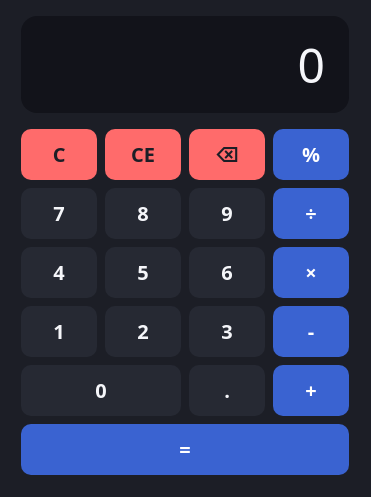
Scenario: App — basic calculation (User Story 1) › computes 9 - 15 = -6
The image size is (371, 497).
What coordinates should you click on to do the following:
click the button "9"
I would click on:
 (227, 214)
Its box is top-left (189, 188), bottom-right (265, 239).
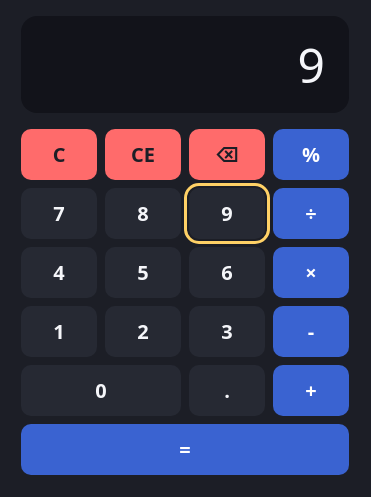
What coordinates should you click on to do the following:
click the button named "Subtract"
I would click on:
 (311, 332)
Its box is top-left (273, 306), bottom-right (349, 357).
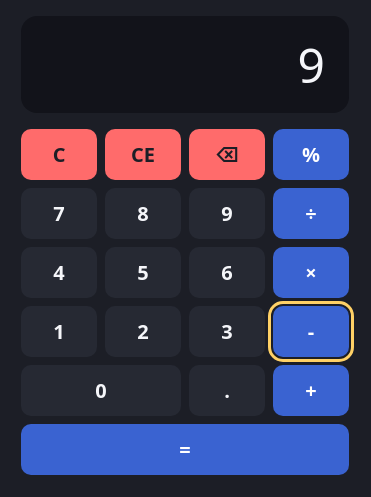
What coordinates should you click on to do the following:
click the button "1"
I would click on:
 (59, 332)
Its box is top-left (21, 306), bottom-right (97, 357).
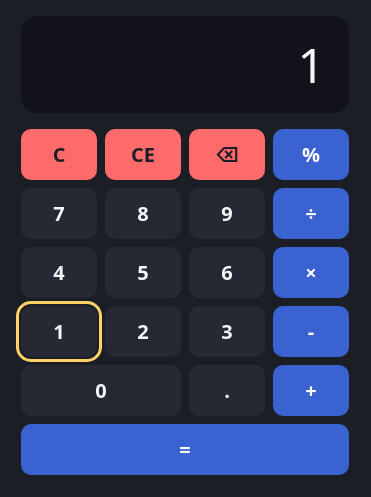
What coordinates should you click on to do the following:
click the button "5"
I would click on:
 (143, 272)
Its box is top-left (105, 247), bottom-right (181, 298).
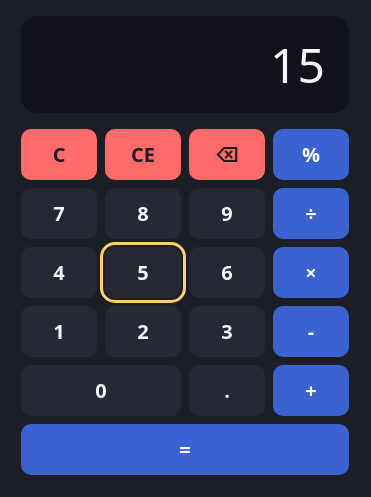
What coordinates should you click on to do the following:
click the button named "Equals"
I would click on:
 (185, 450)
Its box is top-left (21, 424), bottom-right (349, 475).
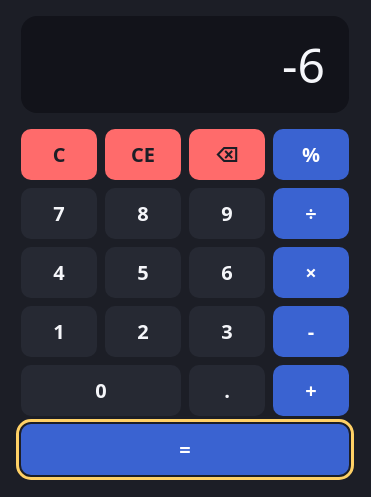
Expected: the message named "Calculator display" reads "-6", top-left (282, 32), bottom-right (325, 97)
